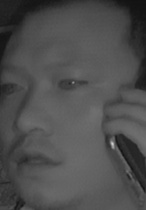eye: (54, 73, 89, 96), (1, 78, 25, 98)
mouth: (9, 143, 60, 176)
